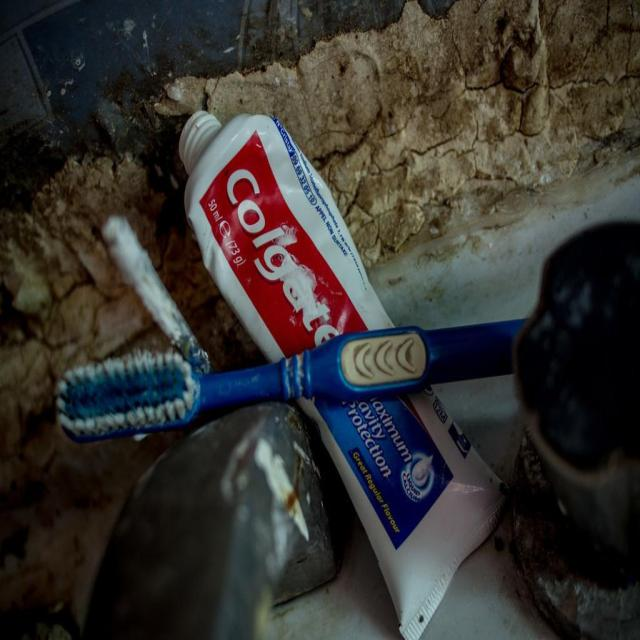Toothpaste: (181, 83, 511, 639)
